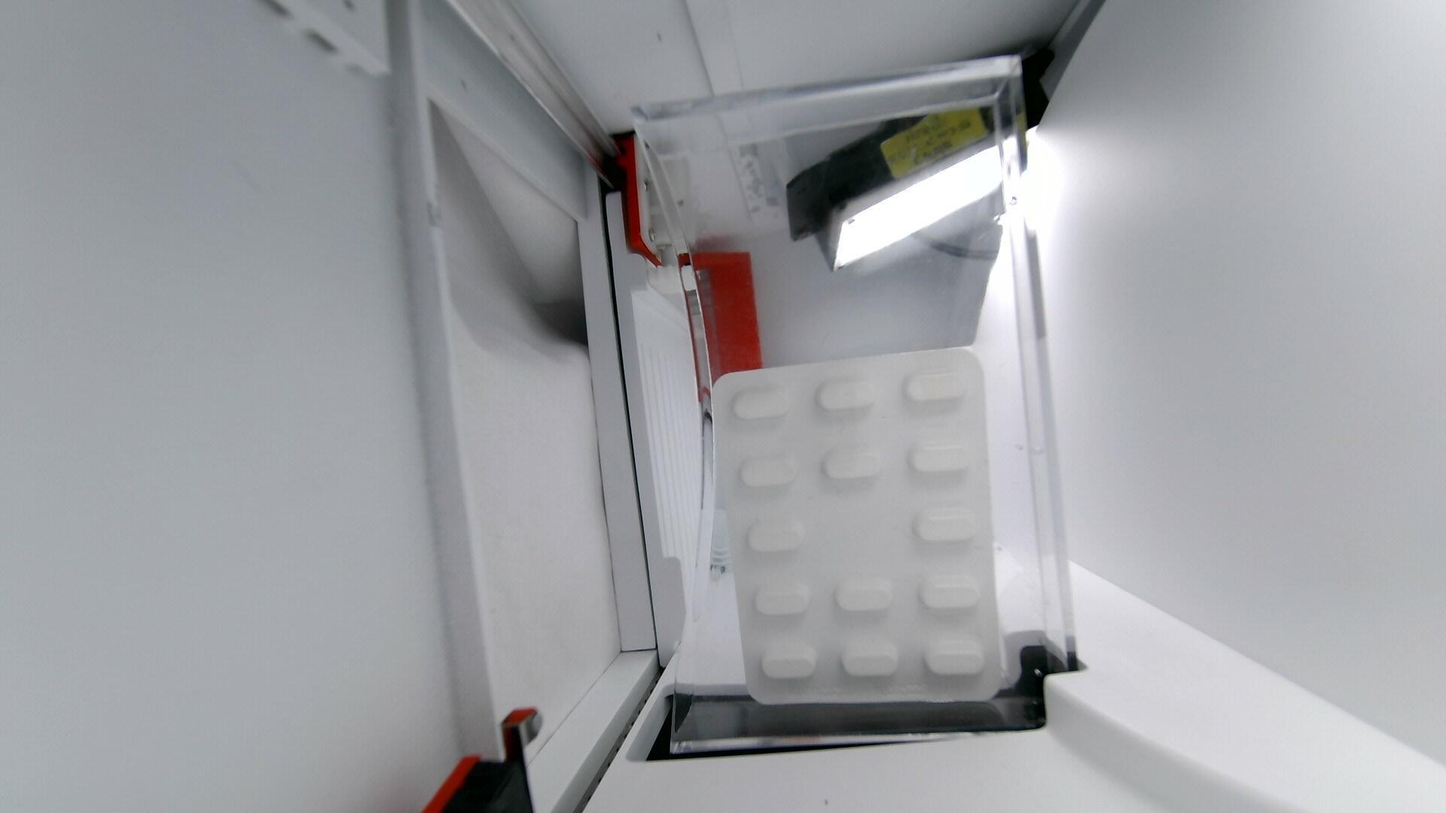Light Front: (713, 348, 1005, 705)
Pill Front: (923, 638, 984, 675), (919, 576, 981, 612), (755, 583, 810, 623), (914, 508, 975, 544), (816, 378, 876, 412), (834, 577, 892, 612), (912, 440, 972, 473), (747, 519, 805, 553), (905, 372, 968, 403), (823, 447, 882, 480), (842, 644, 898, 677), (762, 645, 816, 679), (740, 457, 795, 488), (734, 390, 790, 420)
